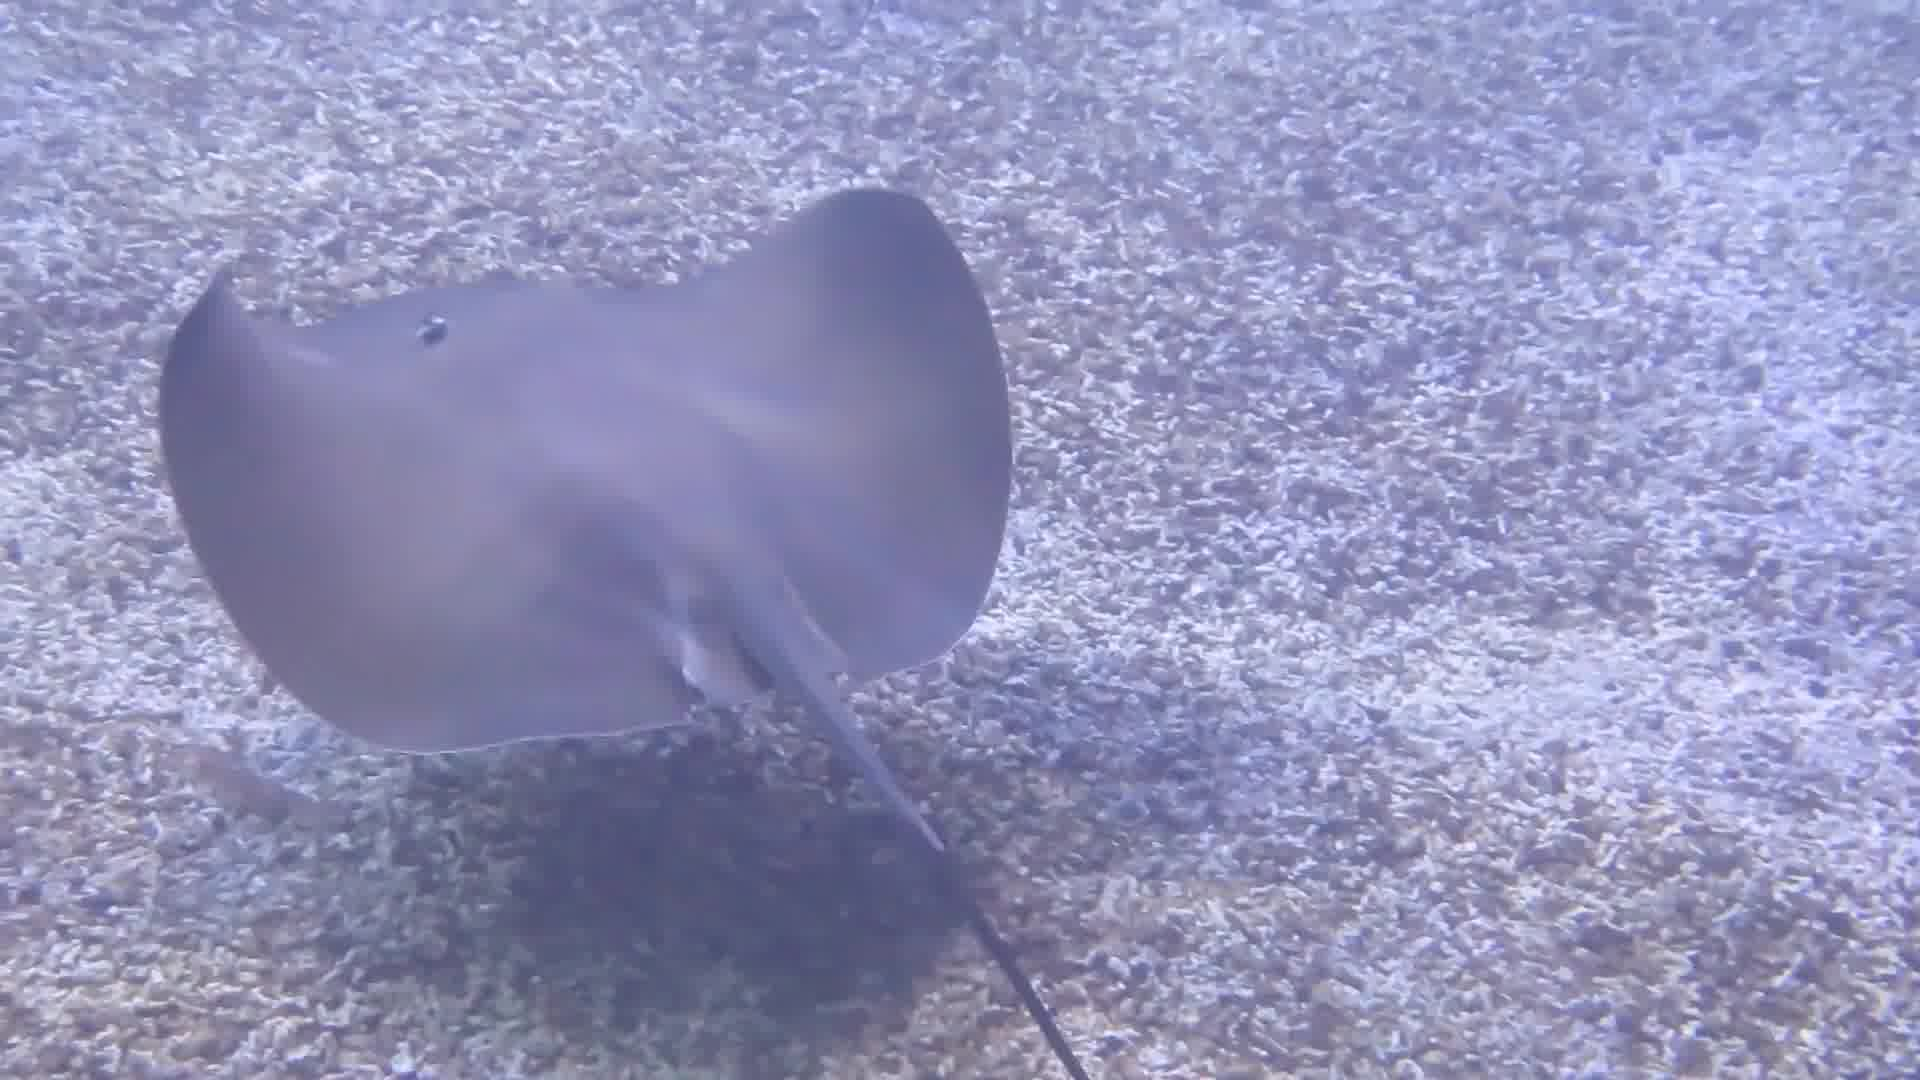Dasyatis akajei: (135, 142, 1095, 1079)
